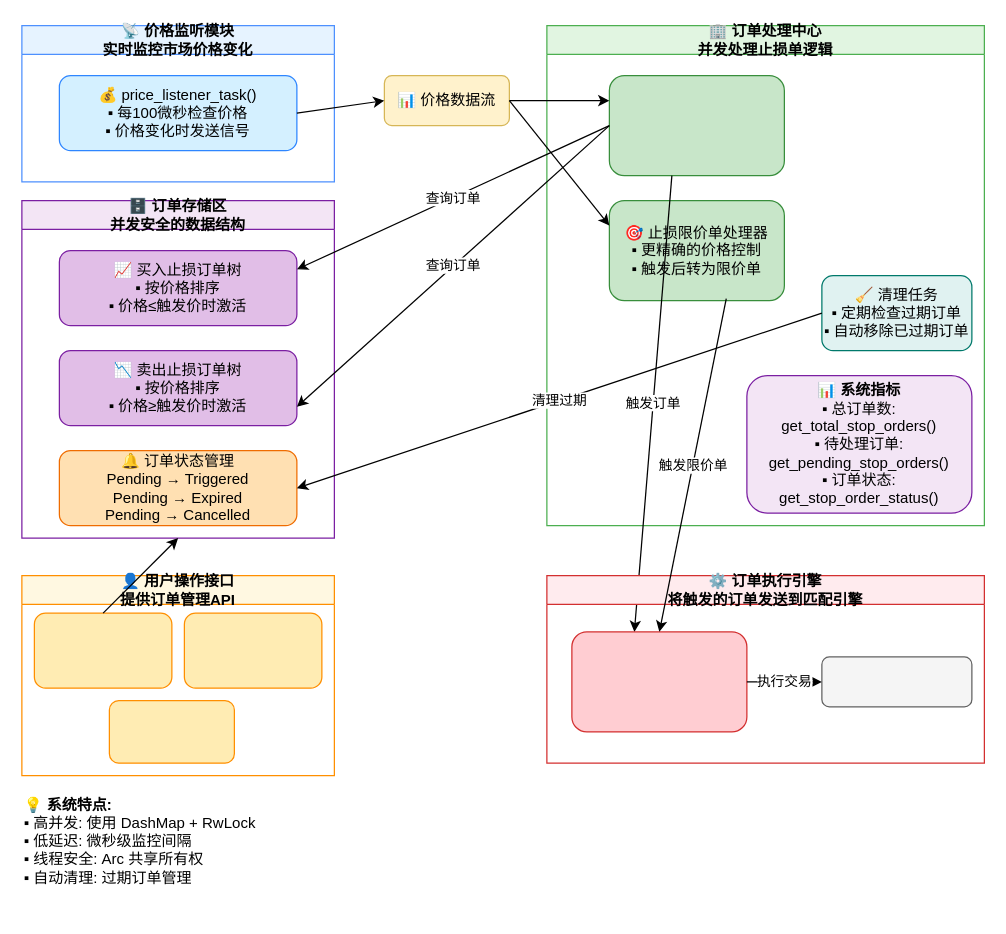
Some shapes in this 1006 by 934 pixel diagram are drawn without their labels. The box of each missing label's shape, as (x1, y1, x2, y2) in pixels:
✏️ set_stop_order() 修改订单参数: (108, 699, 234, 763)
❌ cancel_stop_order() 取消现有订单: (183, 612, 322, 688)
➕ add_stop_order() 创建新的止损单: (33, 612, 172, 688)
🌐 外部交易系统 SLFE 匹配引擎: (821, 656, 972, 707)
🚀 OrderProcessor ▪ 处理市场单 ▪ 处理限价单 ▪ 与SLFE交互: (571, 631, 747, 732)
🛡️ 止损单处理器 ▪ 监控买入止损条件 ▪ 监控卖出止损条件 ▪ 每50微秒处理一次: (608, 74, 784, 176)
